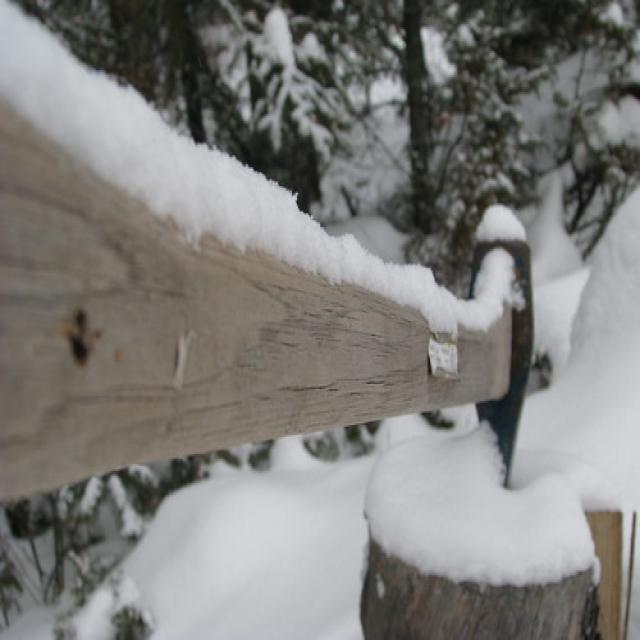Axe: (1, 0, 532, 499)
